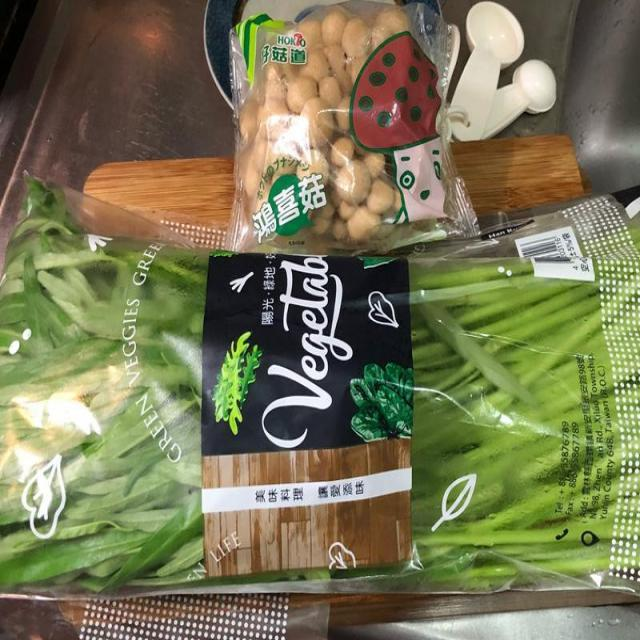Hypsizygus marmoreus: (251, 9, 412, 231)
